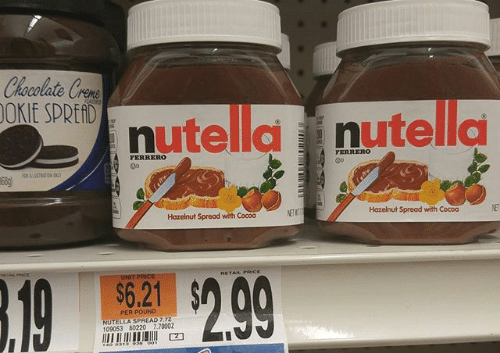nutella: (106, 1, 306, 251), (314, 1, 499, 246)
